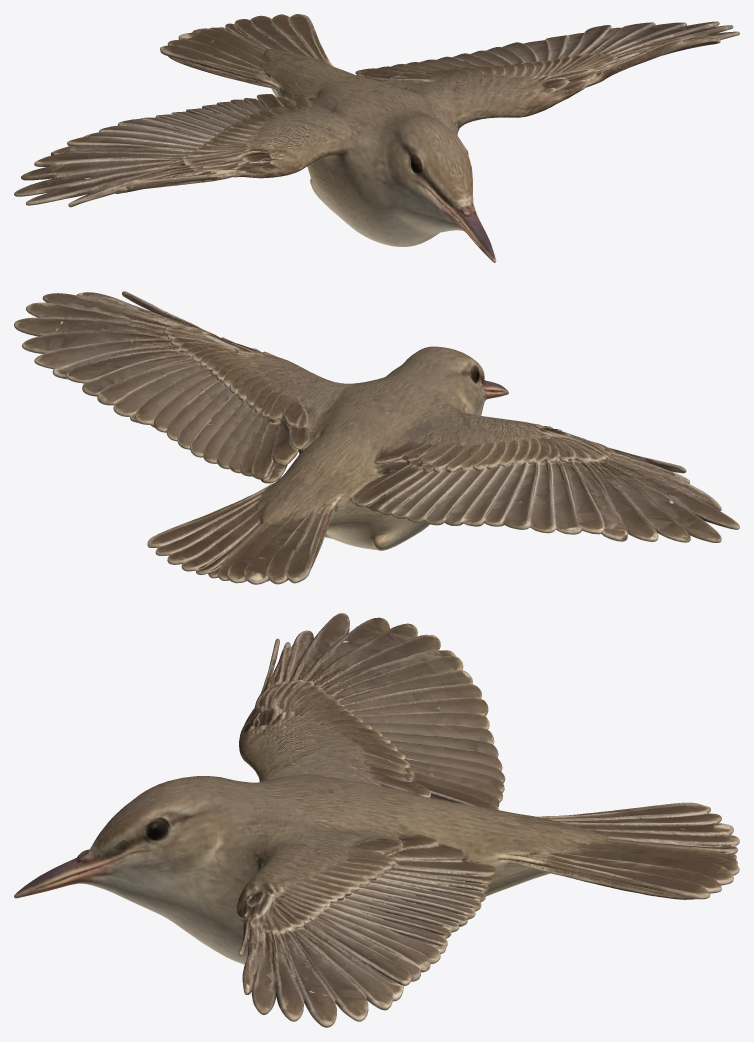
Rendered from Iduna_pallida.glb.
The picture shows the model from 3 angles, top to bottom: view 1: azimuth 30°, elevation 25°; view 2: azimuth 150°, elevation 25°; view 3: azimuth 270°, elevation 25°; orthographic projection. The views are drawn at different scales.
Visible parts, largest first — view 1: orient; view 2: orient; view 3: orient.
Part boxes in pixels (left/top/right/bottom): orient: left=14, top=14, right=739, bottom=262; orient: left=14, top=291, right=739, bottom=584; orient: left=14, top=613, right=739, bottom=1027.
Size of the model in its own units: 0.5 by 0.1016 by 0.3512.
1 material, 1 textured.
